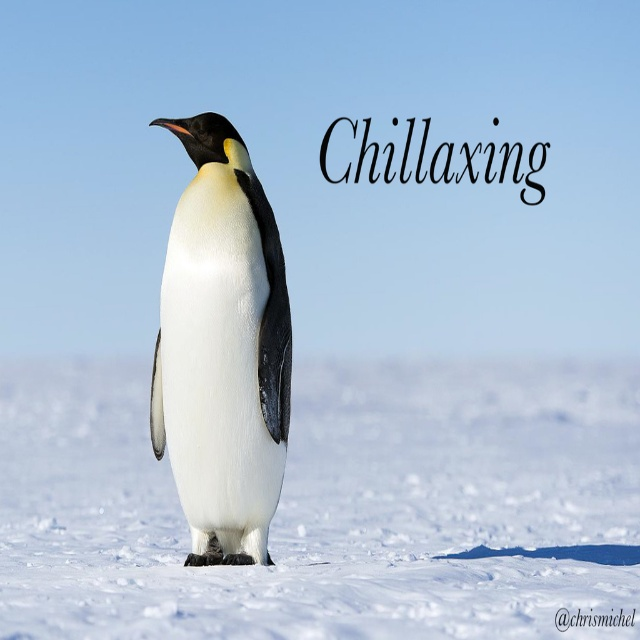Penguin: (149, 111, 290, 567)
